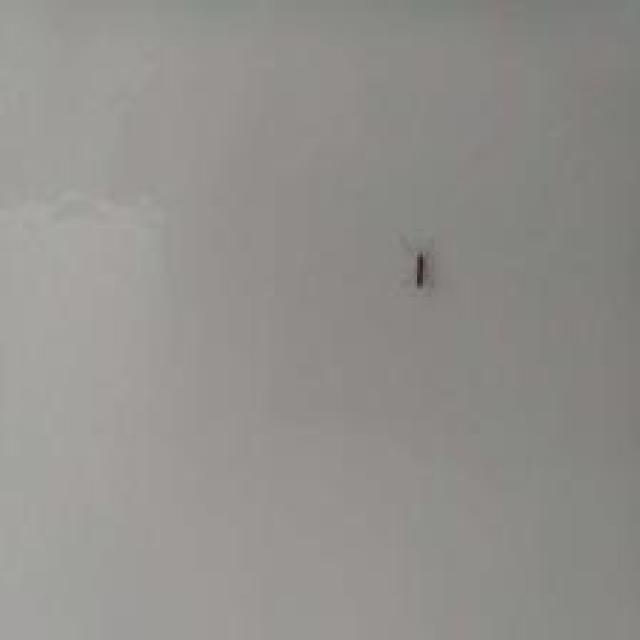Culex: (398, 228, 436, 292)
